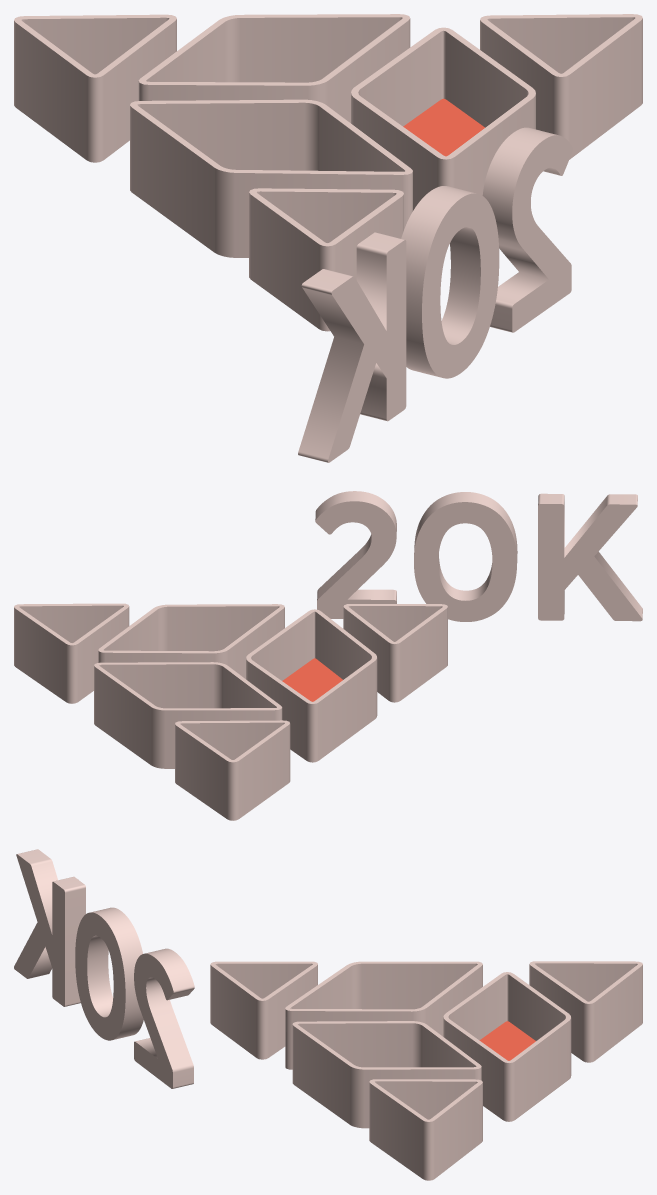
File: bruno-20k.glb
3 views of the same model, one above another, from view 1: azimuth 30°, elevation 25°; view 2: azimuth 150°, elevation 25°; view 3: azimuth 270°, elevation 25° (orthographic). The views are drawn at different scales.
Visible parts, largest first — view 1: boxBase, Text, boxBack; view 2: boxBase, Text, boxBack; view 3: boxBase, Text, boxBack.
Part boxes in pixels (x1=…): boxBase: x1=14, y1=14, x2=642, y2=331; Text: x1=298, y1=127, x2=572, y2=462; boxBack: x1=403, y1=98, x2=484, y2=156; boxBase: x1=14, y1=603, x2=447, y2=820; Text: x1=315, y1=491, x2=642, y2=621; boxBack: x1=282, y1=658, x2=342, y2=701; boxBase: x1=210, y1=961, x2=642, y2=1180; Text: x1=14, y1=849, x2=194, y2=1088; boxBack: x1=479, y1=1021, x2=535, y2=1060.
Size of the model in its own units: 7.92 by 2.15 by 9.93.
